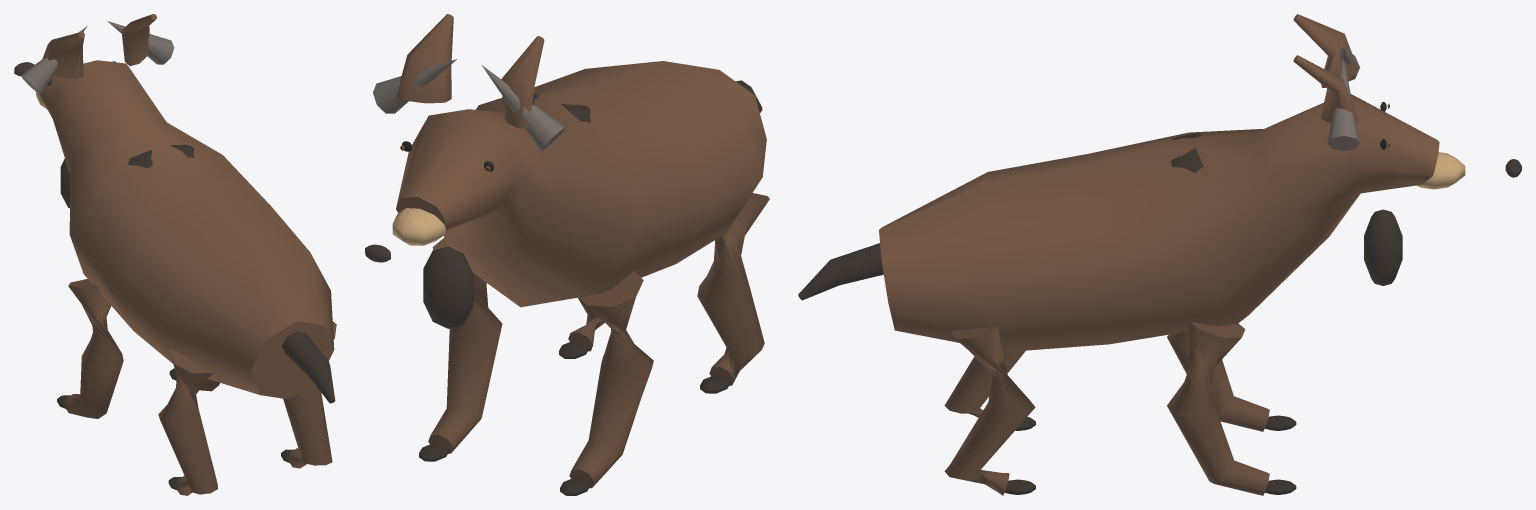
The model's file is bison_mobile.glb.
The picture shows the model from 3 angles, left to right: view 1: azimuth 30°, elevation 25°; view 2: azimuth 150°, elevation 25°; view 3: azimuth 270°, elevation 25°; orthographic projection. The views are drawn at different scales.
Parts seen in each view (by area): view 1: BisonOrganicBody, Leg_LH, Leg_LF, Leg_RH, Tail, Ear, Ear2, HornDetail_L, HornDetail_R, ShoulderHump, BeardRuff; view 2: BisonOrganicBody, Leg_LF, Leg_LH, Leg_RF, BeardRuff, Ear2, Ear, HornDetail_L, Muzzle, HornDetail_R, Leg_RH, Hoof_LH (+3 smaller); view 3: BisonOrganicBody, Leg_RF, Leg_RH, Leg_LF, BeardRuff, Tail, Leg_LH, Ear, Ear2, HornDetail_R, Muzzle.
Part boxes in pixels (bbox=[...]): BisonOrganicBody: bbox=[39, 60, 334, 399]; Leg_LH: bbox=[158, 348, 217, 495]; Leg_LF: bbox=[64, 279, 123, 418]; Leg_RH: bbox=[283, 321, 336, 468]; Tail: bbox=[282, 331, 335, 403]; Ear: bbox=[42, 31, 84, 79]; Ear2: bbox=[122, 14, 156, 65]; HornDetail_L: bbox=[20, 26, 87, 94]; HornDetail_R: bbox=[107, 21, 174, 64]; ShoulderHump: bbox=[128, 144, 194, 168]; BeardRuff: bbox=[60, 158, 69, 208]; BisonOrganicBody: bbox=[396, 61, 766, 307]; Leg_LF: bbox=[569, 271, 653, 488]; Leg_LH: bbox=[697, 193, 769, 385]; Leg_RF: bbox=[428, 238, 502, 453]; BeardRuff: bbox=[423, 246, 473, 328]; Ear2: bbox=[396, 14, 453, 103]; Ear: bbox=[501, 36, 544, 128]; HornDetail_L: bbox=[482, 65, 565, 151]; Muzzle: bbox=[392, 208, 446, 245]; HornDetail_R: bbox=[373, 59, 456, 113]; Leg_RH: bbox=[568, 297, 604, 351]; Hoof_LH: bbox=[700, 375, 730, 393]; BisonOrganicBody: bbox=[879, 94, 1439, 351]; Leg_RF: bbox=[1167, 322, 1269, 495]; Leg_RH: bbox=[944, 327, 1035, 495]; Leg_LF: bbox=[1167, 331, 1269, 431]; BeardRuff: bbox=[1364, 209, 1402, 285]; Tail: bbox=[798, 243, 883, 300]; Leg_LH: bbox=[944, 350, 1025, 417]; Ear: bbox=[1293, 14, 1358, 87]; Ear2: bbox=[1293, 55, 1358, 124]; HornDetail_R: bbox=[1327, 58, 1359, 150]; Muzzle: bbox=[1417, 152, 1465, 189].
Size of the model in its own units: 1.56 by 3.01 by 4.62.
